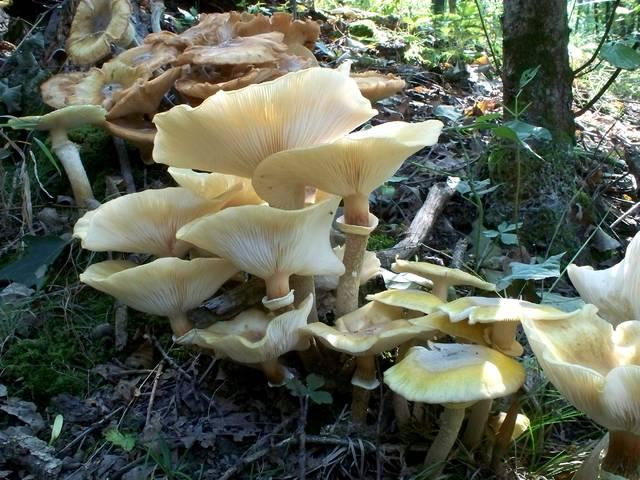Edible Mushroom: (25, 0, 455, 374), (534, 222, 639, 442), (379, 294, 531, 405)
